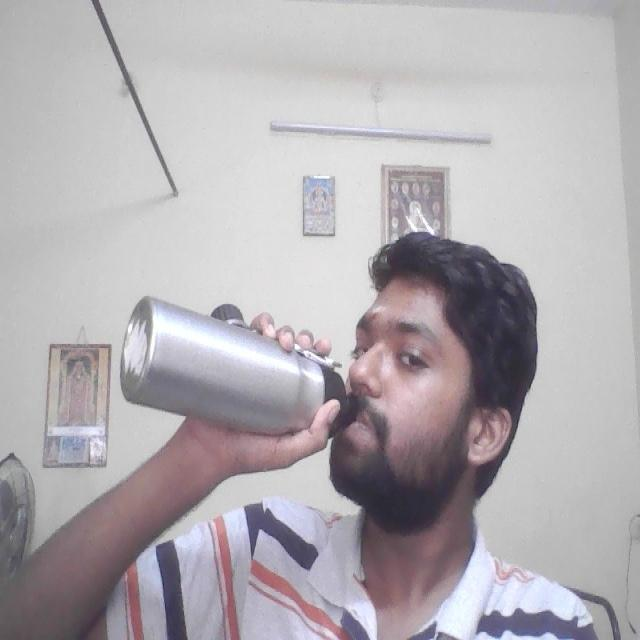Drinking: (115, 275, 358, 436)
